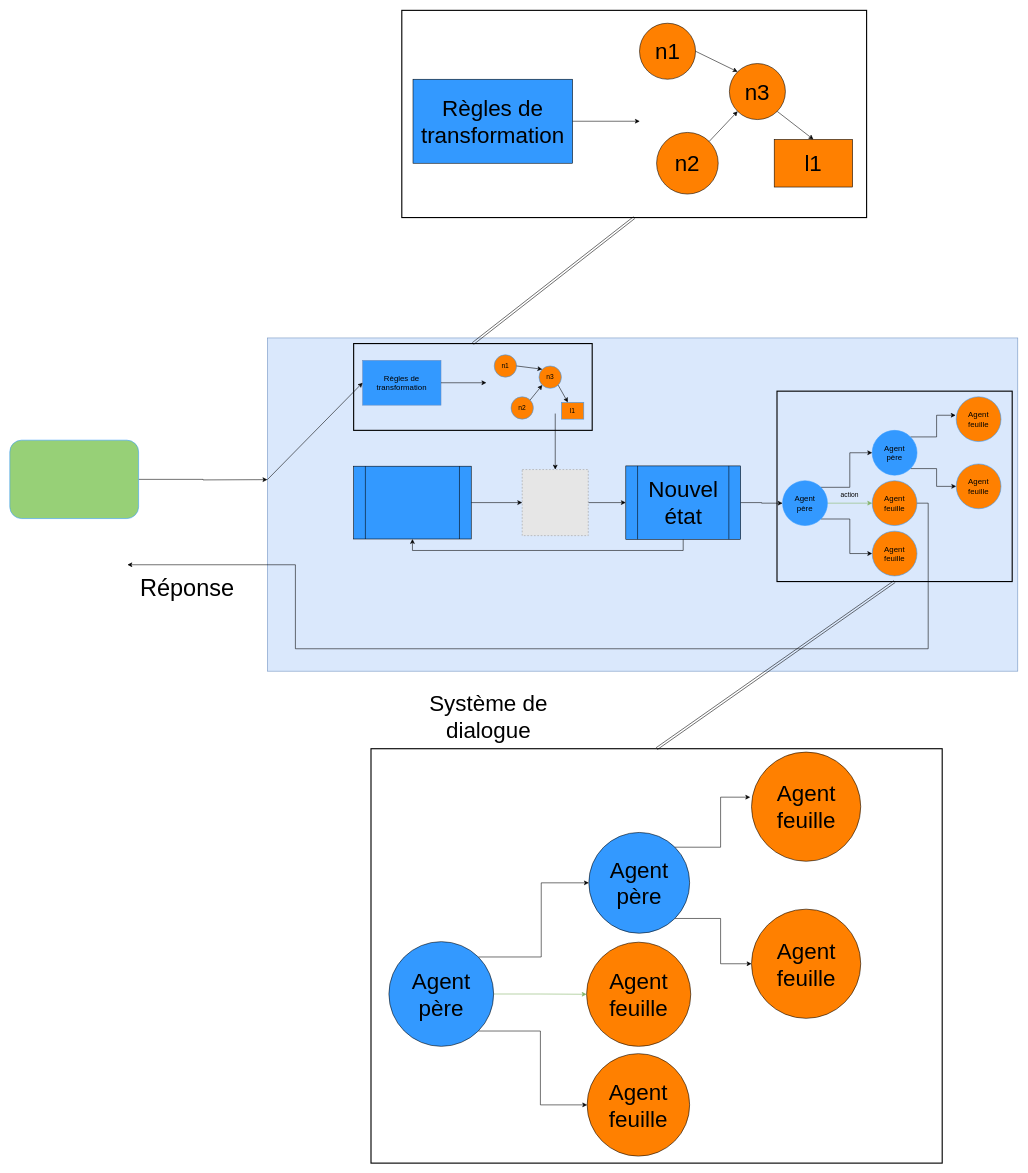
Image size: 1028x1173. Some labels were removed from this diagram. Grey dashed boxes stand in for pictures. Here are the shapes that lost their labels. From the top down, the centre of each, then its label:
At [74,479]: "Trame sémantique".
At [412,502]: "État précédent".
